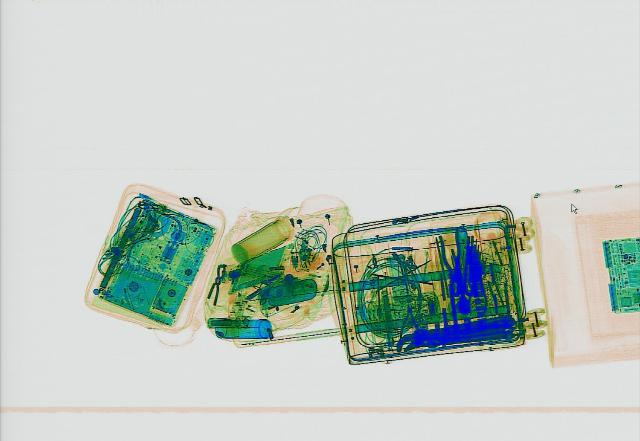Pliers: (432, 225, 470, 285), (398, 300, 420, 338)
